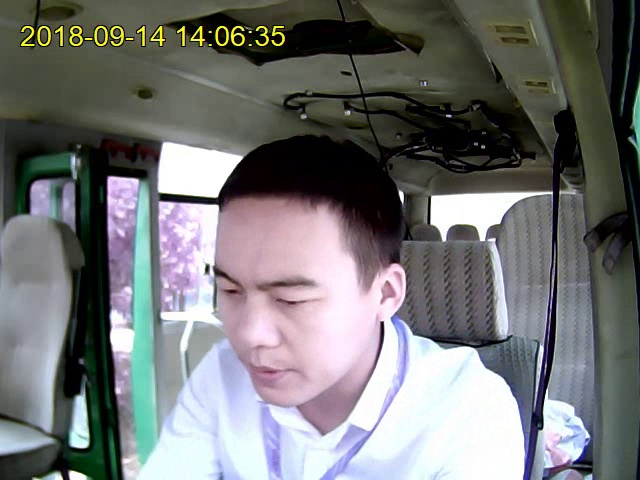closed_mouth: (244, 358, 303, 385)
